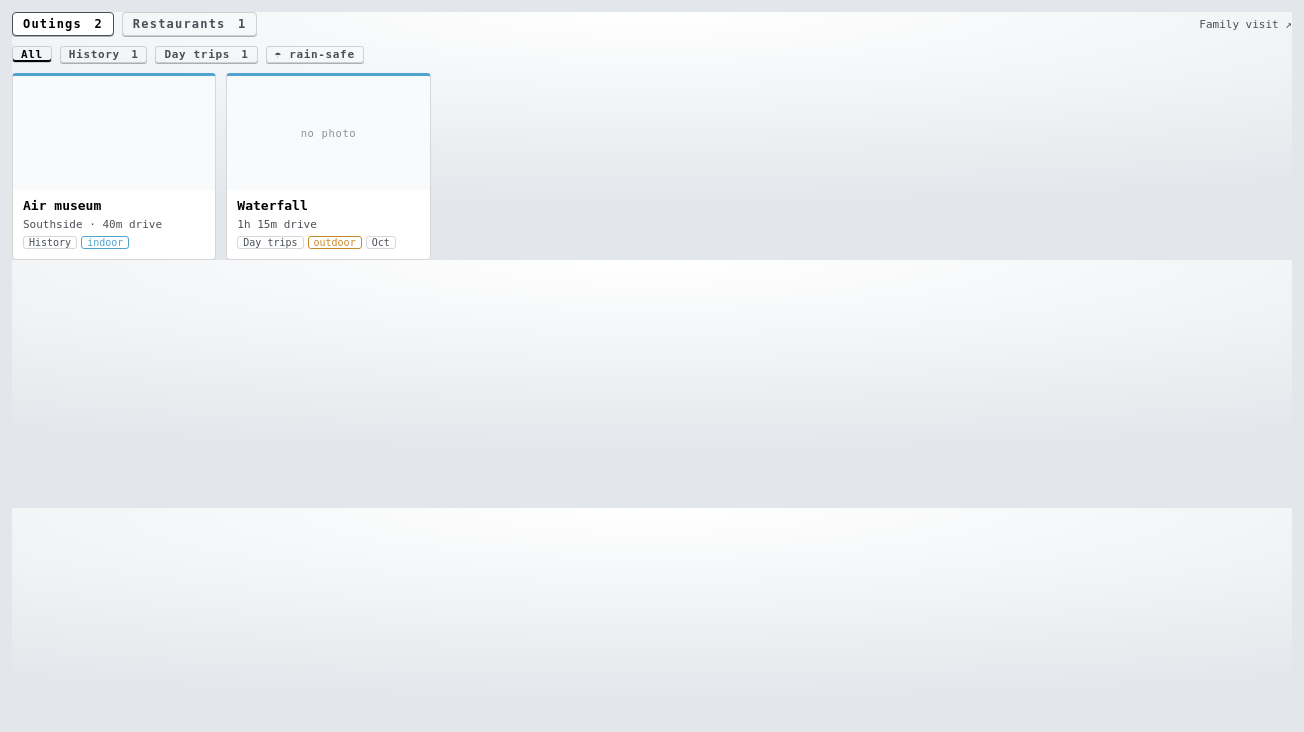
Scenario: BankTiles › hover shows the quick card
Hover over the button "Air museum Southside · 40m drive History indoor": (114, 166) [12,73,216,260]
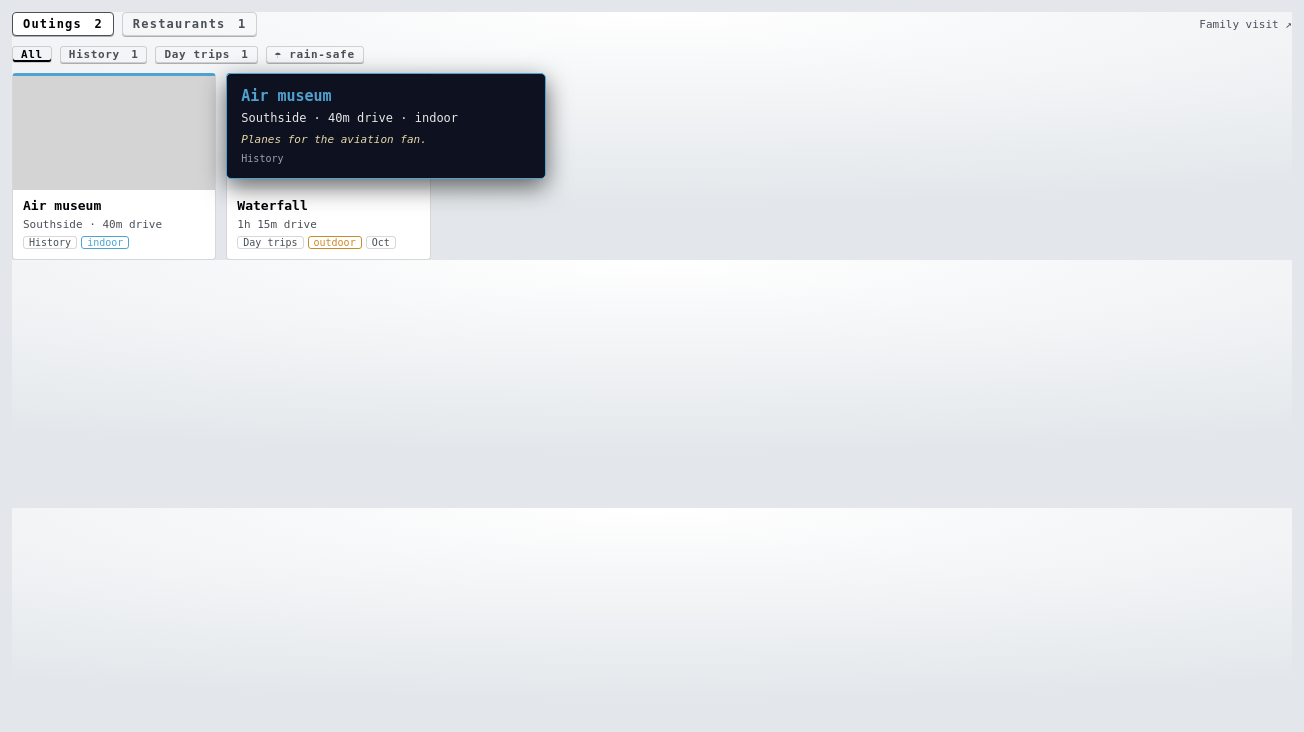
Check: the text "Southside · 40m drive · indoor" is shown, box [241,111,458,125]
Check: the text "Planes for the aviation fan." is shown, box [241,133,427,146]
